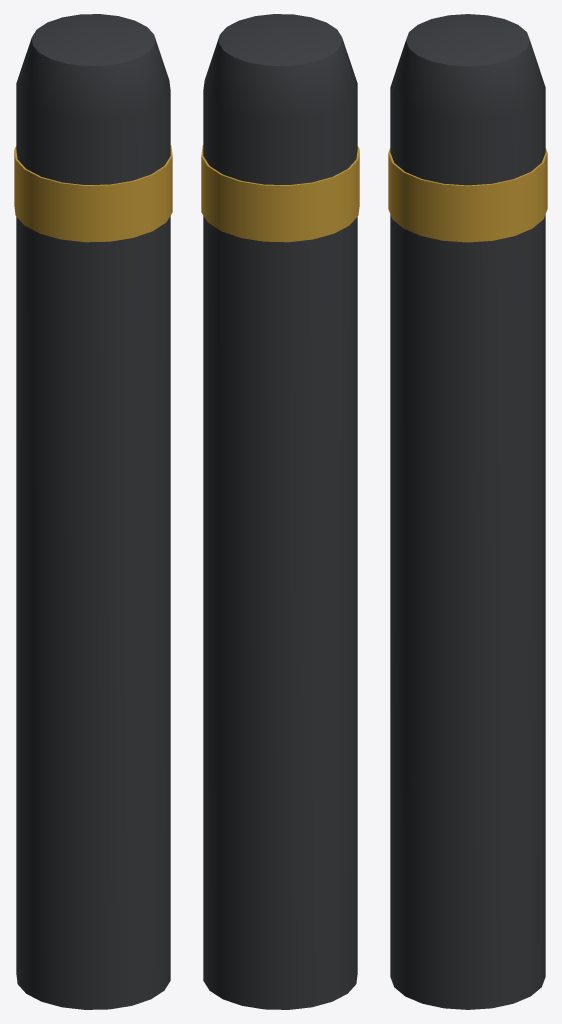
Rendered from prop_bollard_steel.glb.
3 renders of one model, left to right at view 1: azimuth 30°, elevation 25°; view 2: azimuth 150°, elevation 25°; view 3: azimuth 270°, elevation 25°, orthographic.
Parts seen in each view (by area): view 1: Bollard; view 2: Bollard; view 3: Bollard.
Part boxes in pixels (x1=…): Bollard: x1=14, y1=14, x2=172, y2=1009; Bollard: x1=201, y1=14, x2=359, y2=1009; Bollard: x1=388, y1=14, x2=547, y2=1009.
Size of what is drawn, in the model's own units: 0.154 by 1.01 by 0.154.
